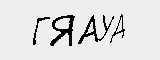А: (76, 13, 100, 42)
Г: (27, 12, 52, 46)
Д: (110, 13, 131, 41)
У: (96, 10, 114, 45)
Я: (47, 13, 76, 49)
